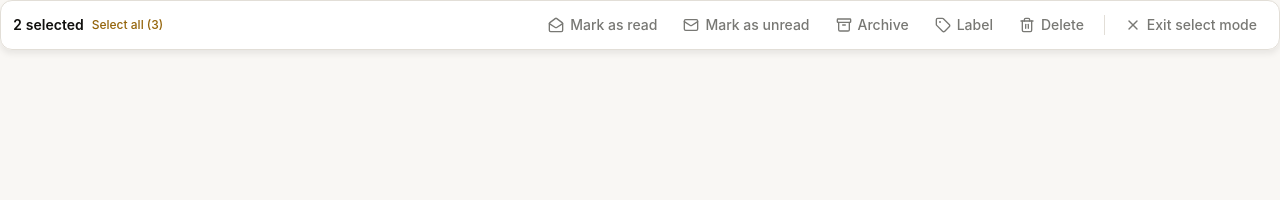
Test: the bulk bar's label picker › picking a label sends one request for the whole selection
Click the button with aria-label "Apply label" at [964, 25], box [925,9,1003,41]
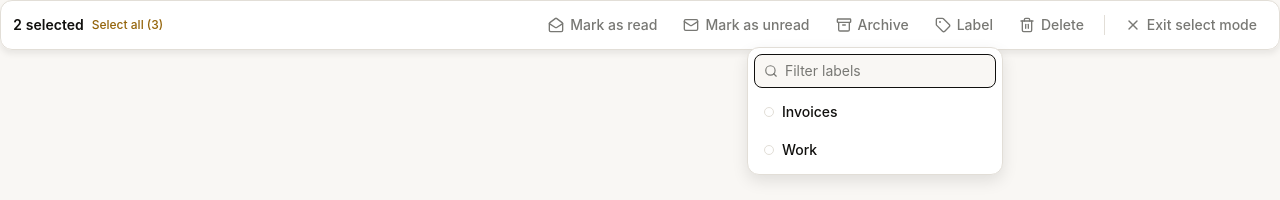
Click the menu item "Work" at [875, 150], box [754,132,996,168]
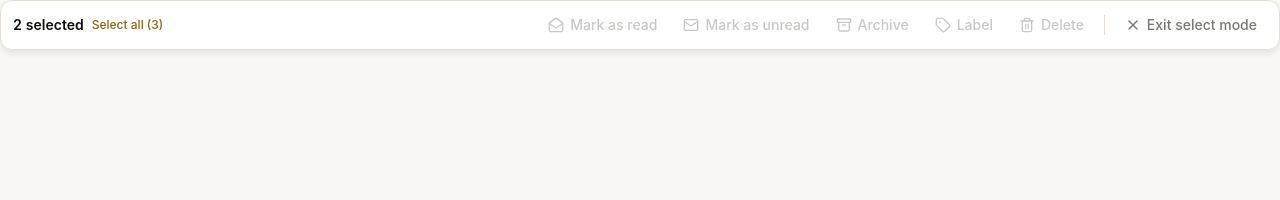
Check: the search field labelled "Labels" is gone
